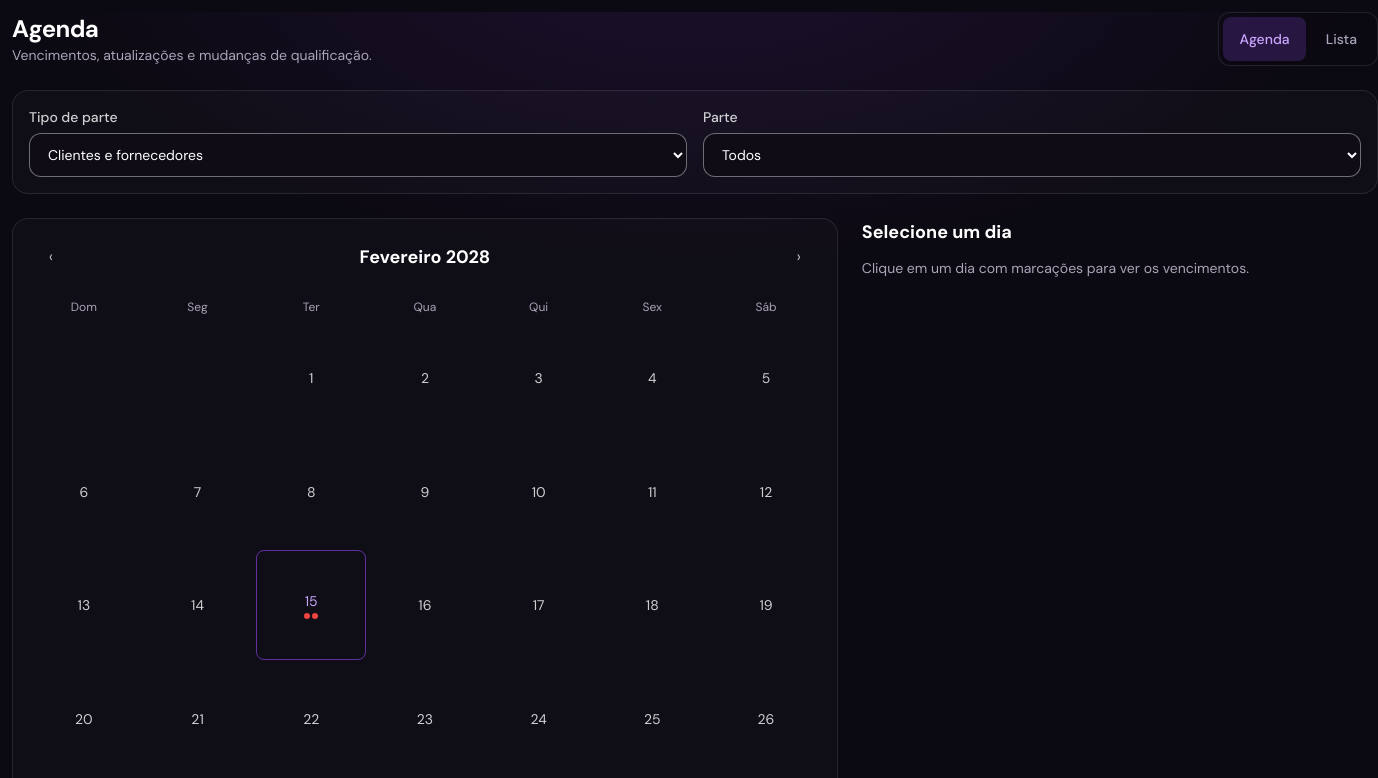
Test: início e cadastros › estagiário vê a agenda de todos os clientes sem ações de gestão
The width and height of the screenshot is (1378, 778).
What coordinates should you click on to do the following:
click the button "Lista"
I would click on:
 (1341, 39)
Its box is [1310,17,1373,61].
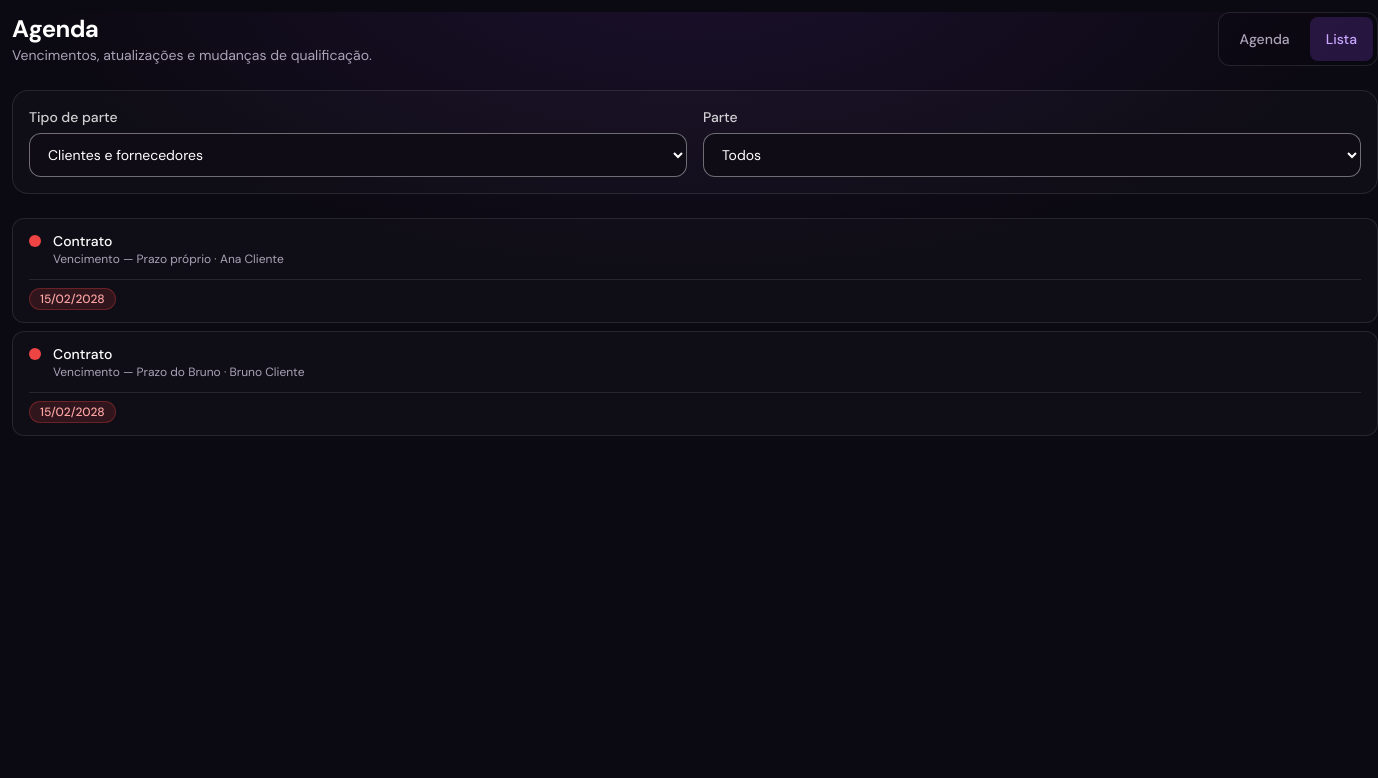
Expected: the text "Vencimento — Prazo próprio · Ana Cliente" is shown, [53,251,284,267]
Expected: the text "Vencimento — Prazo do Bruno · Bruno Cliente" is shown, [53,364,304,380]
